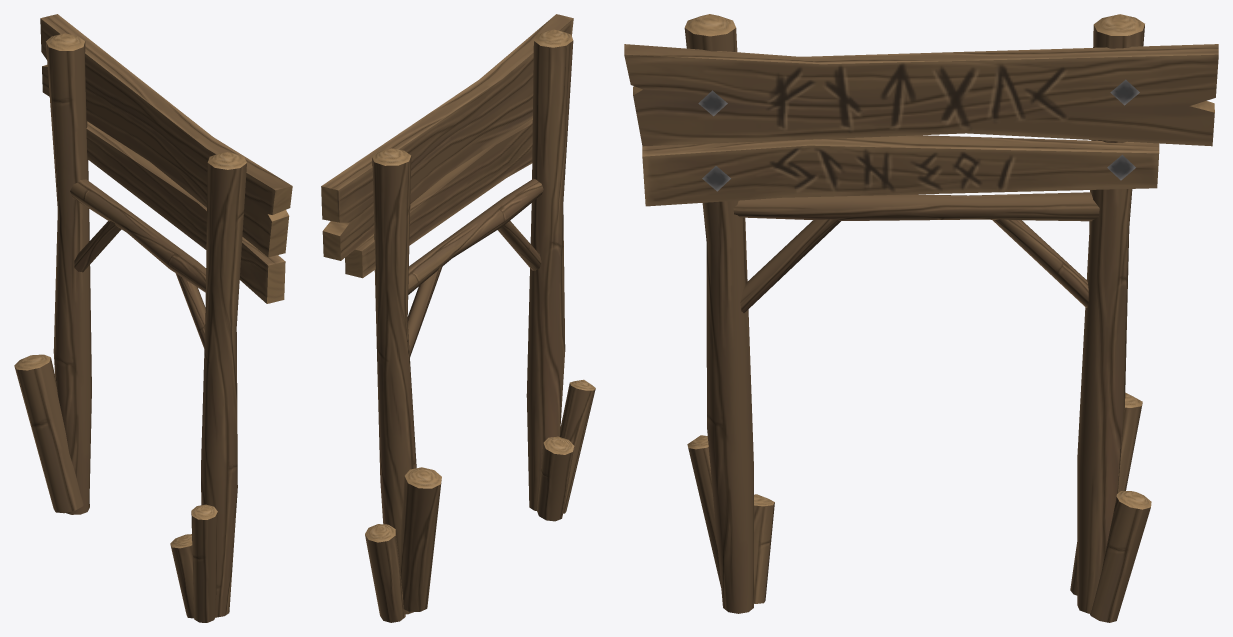
The model's file is Wood_el_03.fbx.
3 renders of one model, left to right at view 1: azimuth 30°, elevation 25°; view 2: azimuth 150°, elevation 25°; view 3: azimuth 270°, elevation 25°, orthographic. The views are drawn at different scales.
Parts seen in each view (by area): view 1: polySurface2053; view 2: polySurface2053; view 3: polySurface2053.
Boxes of the visible parts, x1,y1,x2,y2 form: polySurface2053: (14, 14, 292, 622); polySurface2053: (321, 14, 595, 622); polySurface2053: (624, 14, 1218, 622).
Bounding box in the file's own units: 52.1 × 275 × 246.
Materials: 1 (1 with a texture image).
